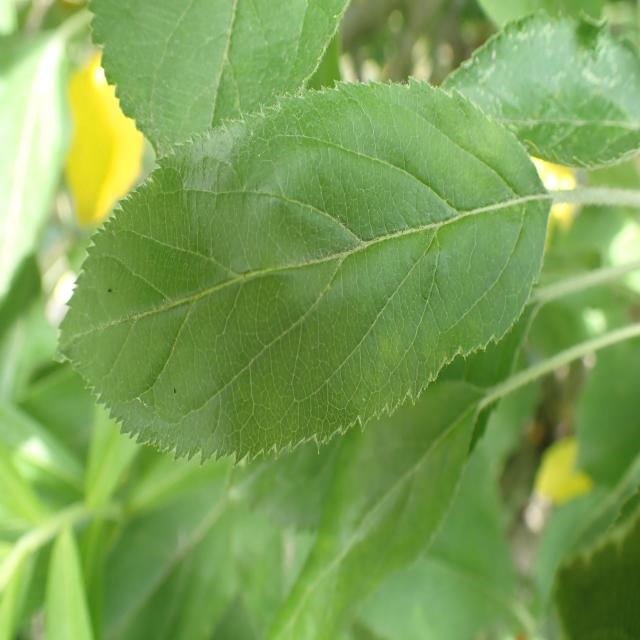healthy: (55, 78, 554, 469), (86, 0, 348, 159), (440, 8, 640, 170)
